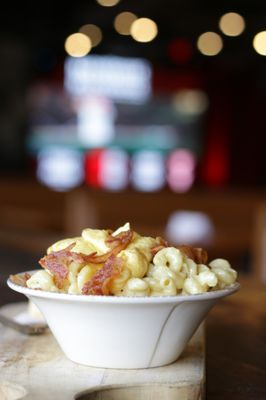sushi: (7, 224, 242, 370)
